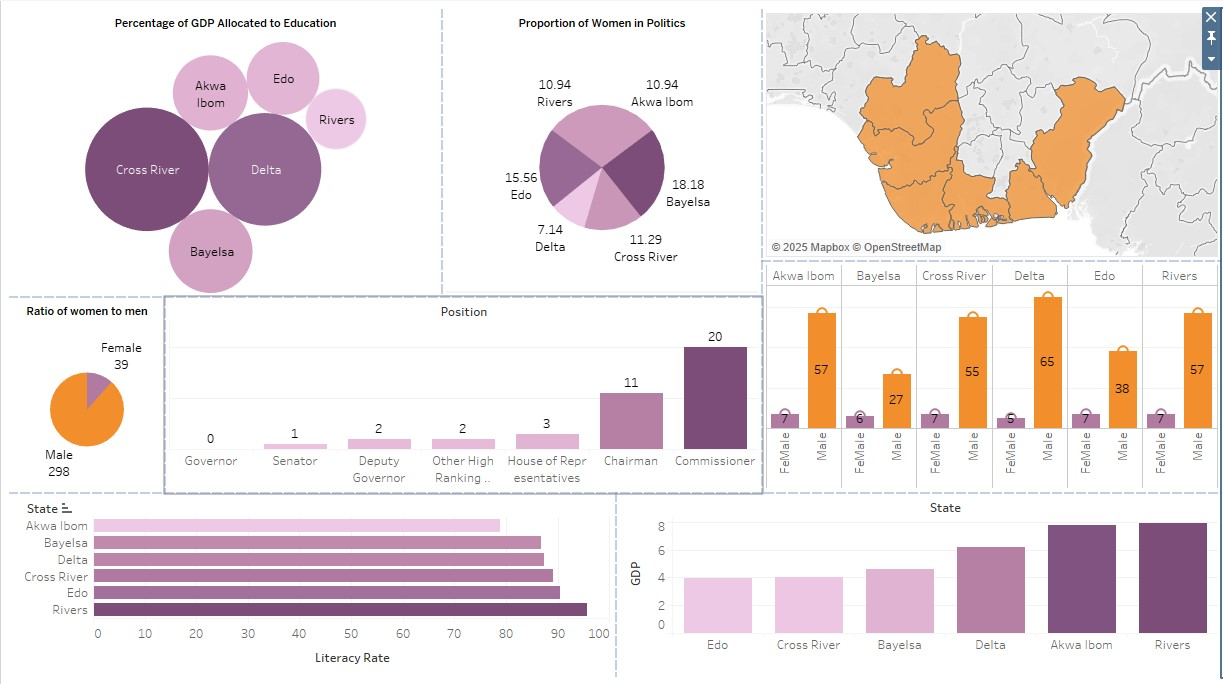

What the dashboard file says about the page in this screenshot:
{"tool":"tableau","page":{"name":"Dashboard 1","canvas":[1000,1000],"units":"permille","ordinal":0},"visuals":[{"type":"worksheet","title":"Sheet 3","mark":"Circle","box":[5.8,11.7,311.7,421.1]},{"type":"worksheet","title":"Sheet 10","mark":"Pie","box":[317.5,11.7,230.4,421.1]},{"type":"worksheet","title":"Sheet 1","mark":"Multipolygon","box":[547.9,11.7,331.2,368.4]},{"type":"legend","title":"Sheet 3","param":"[federated.08116fx18rtmct1at5y5x0hr40ee].[sum:Education Budget:qk]","box":[879.1,11.7,115.2,95]},{"type":"legend","title":"Sheet 4","param":"[federated.08116fx18rtmct1at5y5x0hr40ee].[sum:Literacy Rate:qk]","box":[879.1,106.7,115.2,95]},{"type":"legend","title":"Sheet 6","param":"[federated.0gfora10geedgl11j508p10r3gg1].[sum:FemaleCount:qk]","box":[879.1,201.8,115.2,95]},{"type":"legend","title":"Sheet 7","param":"[federated.0kod68m0xm61na1a82hbs1inpd27].[none:Gender:nk]","box":[879.1,296.8,115.2,96.5]},{"type":"worksheet","title":"Sheet 9","mark":"Automatic","rows":["Position","Position"],"cols":["State","Gender"],"box":[547.9,380.1,331.2,339.2]},{"type":"legend","title":"Sheet 7","param":"[federated.0kod68m0xm61na1a82hbs1inpd27].[sum:Count:qk]","box":[879.1,393.3,115.2,67.3]},{"type":"worksheet","title":"Sheet 7","mark":"Pie","box":[5.8,432.8,112.3,286.6]},{"type":"worksheet","title":"Sheet 6","mark":"Automatic","rows":["FemaleCount"],"cols":["Position"],"box":[118.1,432.8,429.8,286.6]},{"type":"legend","title":"Sheet 8","param":"[federated.029ddw40t1ice61a4ssus00pmbpo].[sum:GDP:qk]","box":[879.1,460.6,115.2,95]},{"type":"legend","title":"Sheet 9","param":"[federated.16rs08m17orm7m13d3got15f2jc3].[none:Gender:nk]","box":[879.1,555.6,115.2,96.5]},{"type":"legend","title":"Sheet 10","param":"[federated.06g5kyd0h5o70k12ee9z91xuhvsx].[sum:female_percentage:qk]","box":[879.1,652.1,115.2,67.3]},{"type":"worksheet","title":"Sheet 4","mark":"Automatic","rows":["State"],"cols":["Literacy Rate"],"box":[5.8,719.3,436.7,269]},{"type":"worksheet","title":"Sheet 8","mark":"Automatic","rows":["GDP"],"cols":["State"],"box":[442.4,719.3,436.6,269]},{"type":"legend","title":"Sheet 10","param":"[federated.06g5kyd0h5o70k12ee9z91xuhvsx].[sum:female_percentage:qk]","box":[879.1,719.3,115.2,95]}]}

Visuals, with their boxes on the dashboard's canvas, which has no fixed pixel size, in thousandths of its width and height (x1, y1, x2, y2). These are canvas units, not pixel positions in the 1223x684 screenshot, which may show the page scaled, cropped or inside an application window:
"Sheet 3" worksheet (Circle marks): (6, 12, 318, 433)
"Sheet 10" worksheet (Pie marks): (318, 12, 548, 433)
"Sheet 1" worksheet (Multipolygon marks): (548, 12, 879, 380)
"Sheet 3" legend: (879, 12, 994, 107)
"Sheet 4" legend: (879, 107, 994, 202)
"Sheet 6" legend: (879, 202, 994, 297)
"Sheet 7" legend: (879, 297, 994, 393)
"Sheet 9" worksheet: (548, 380, 879, 719)
"Sheet 7" legend: (879, 393, 994, 461)
"Sheet 7" worksheet (Pie marks): (6, 433, 118, 719)
"Sheet 6" worksheet: (118, 433, 548, 719)
"Sheet 8" legend: (879, 461, 994, 556)
"Sheet 9" legend: (879, 556, 994, 652)
"Sheet 10" legend: (879, 652, 994, 719)
"Sheet 4" worksheet: (6, 719, 442, 988)
"Sheet 8" worksheet: (442, 719, 879, 988)
"Sheet 10" legend: (879, 719, 994, 814)
